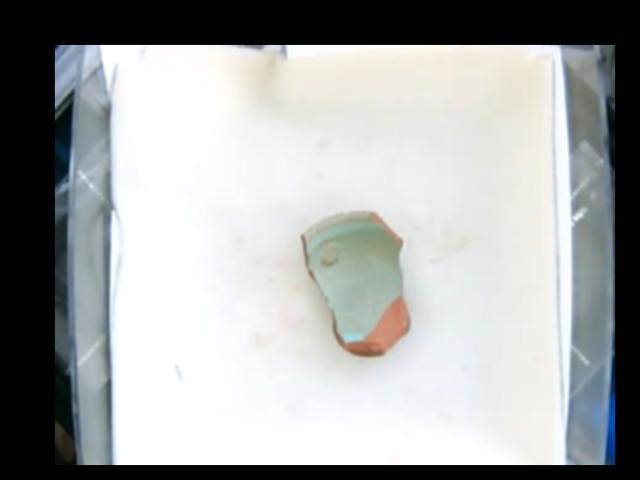China: (296, 209, 409, 356)
